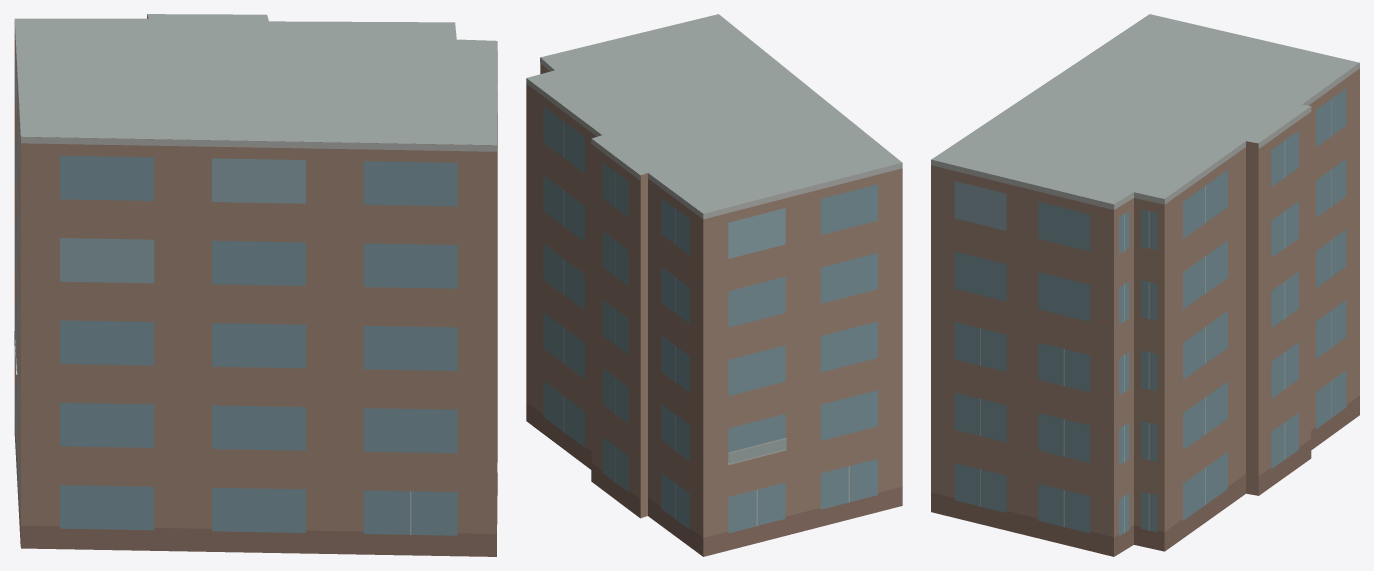
The model's file is survey-upis-32674569.glb.
The picture shows the model from 3 angles, left to right: view 1: azimuth 30°, elevation 25°; view 2: azimuth 150°, elevation 25°; view 3: azimuth 270°, elevation 25°; orthographic projection. The views are drawn at different scales.
Parts seen in each view (by area): view 1: survey-upis-32674569.tmp; view 2: survey-upis-32674569.tmp; view 3: survey-upis-32674569.tmp.
Boxes of the visible parts, x1,y1,x2,y2 form: survey-upis-32674569.tmp: (14,14,497,556); survey-upis-32674569.tmp: (526,14,902,556); survey-upis-32674569.tmp: (931,14,1359,556).
Size of the model in its own units: 17.68 by 15.25 by 16.82.
